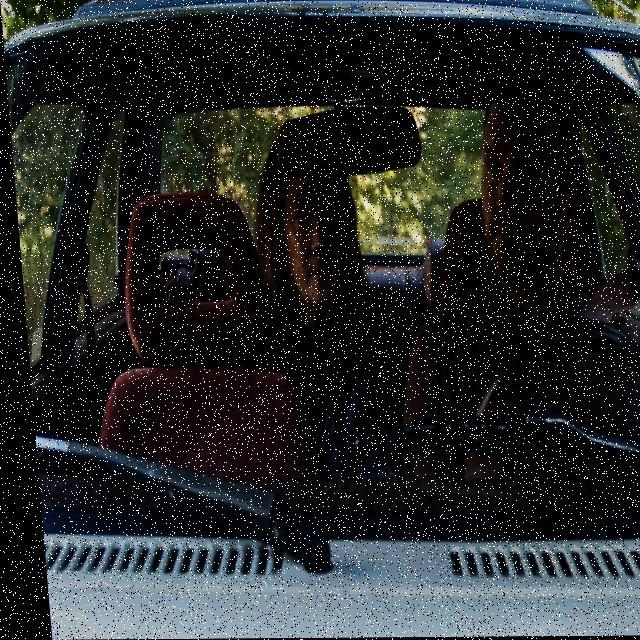noSeatbelt: (265, 264, 402, 476)
seatbelt: (534, 241, 640, 382)
